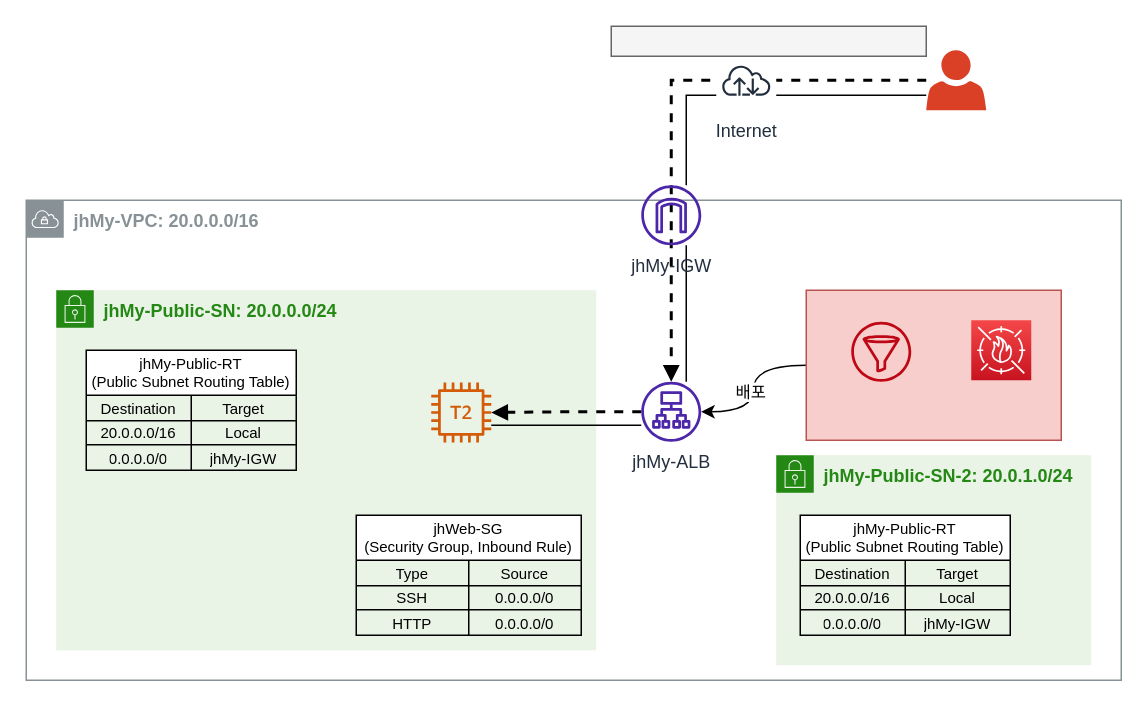
The diagram is 1148 pixels wide and 707 high, and some of its shapes have lost their labels. The centre of each missing label's shape, as x and y in pixels:
"AWS WAF" goes at point (1000, 349).
"Filtering Rule" goes at point (880, 351).
"jhDVWA-EC2 Private IP: 20.0.0.10" goes at point (460, 412).
"SQL Injection, Command Injection, XSS 공격" goes at point (768, 40).
"공격자" goes at point (956, 80).
